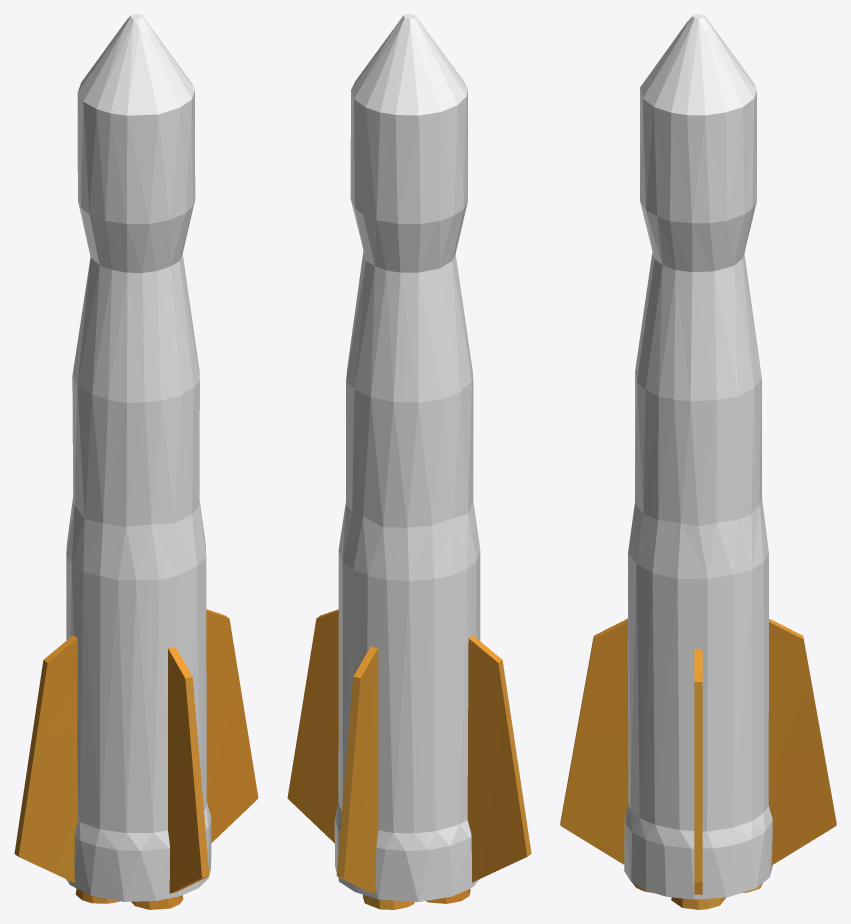
File: SpaceRocket.fbx
3 renders of one model, left to right at view 1: azimuth 30°, elevation 25°; view 2: azimuth 150°, elevation 25°; view 3: azimuth 270°, elevation 25°, orthographic.
Visible parts, largest first — view 1: Cylinder.003; view 2: Cylinder.003; view 3: Cylinder.003.
Part boxes in pixels (<box>): Cylinder.003: <box>14,14,258,909</box>; Cylinder.003: <box>287,14,531,909</box>; Cylinder.003: <box>560,14,836,909</box>.
Bounding box in the file's own units: 2.02 × 6.97 × 2.02.
